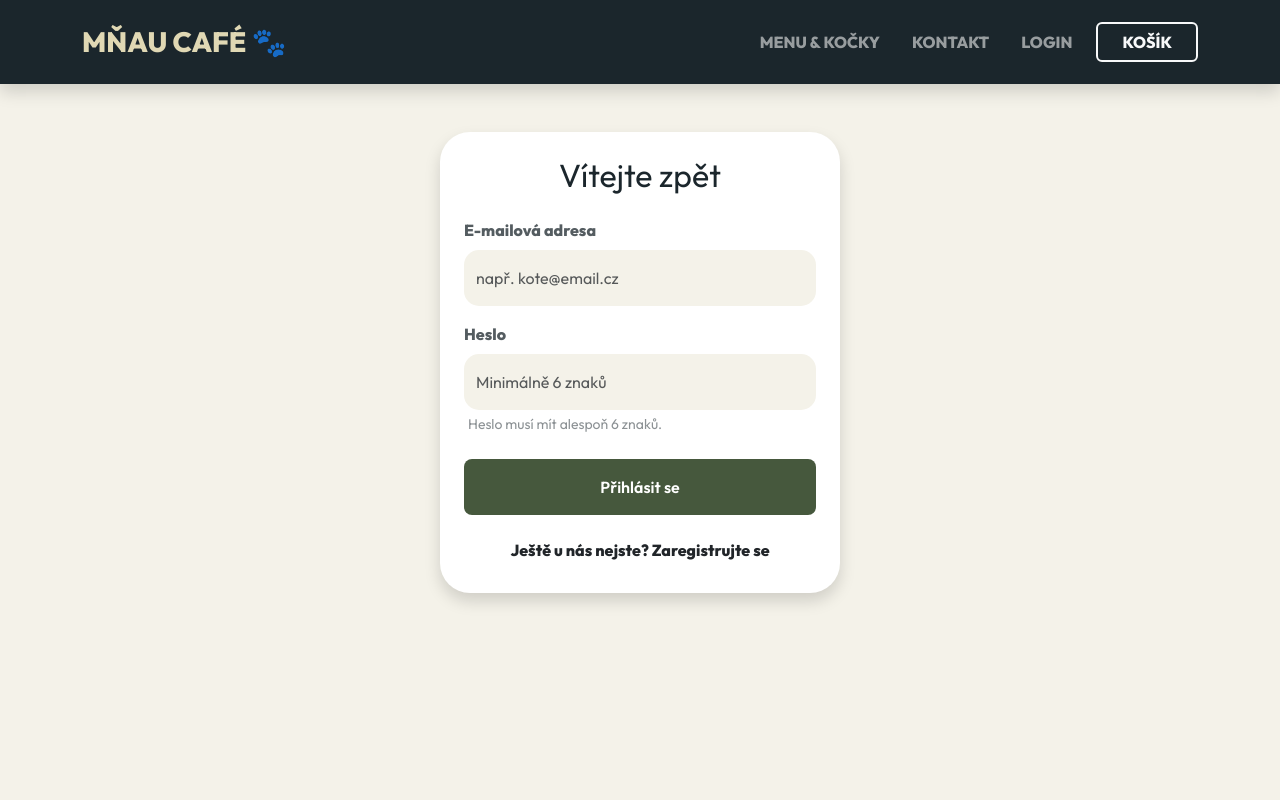
Test: Login – zobrazení › přepne do režimu registrace po kliknutí na odkaz
The width and height of the screenshot is (1280, 800).
Click the button "Ještě u nás nejste? Zaregistrujte se": point(640, 550) [464,531,816,569]
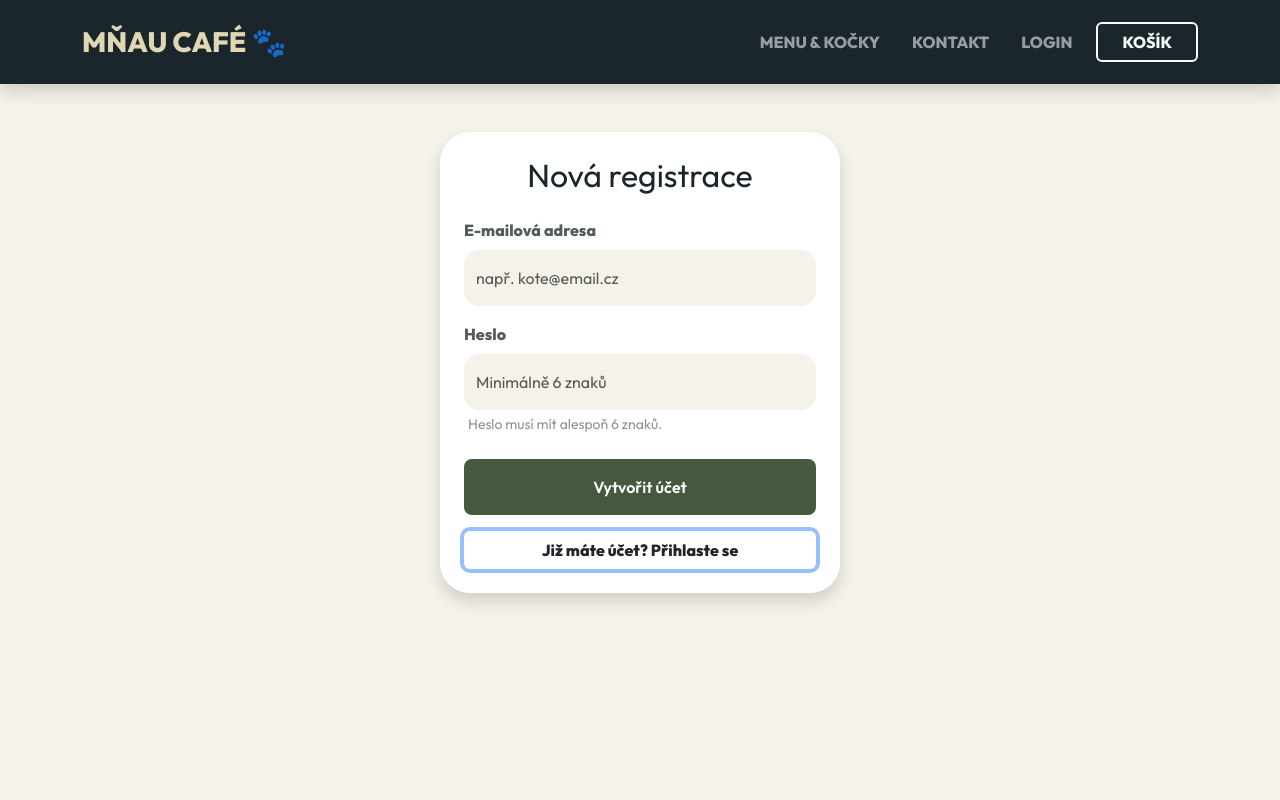
Check: the heading "Nová registrace" is shown, box [527,155,753,195]
Check: the button "Vytvořit účet" is shown, box [464,459,816,515]
